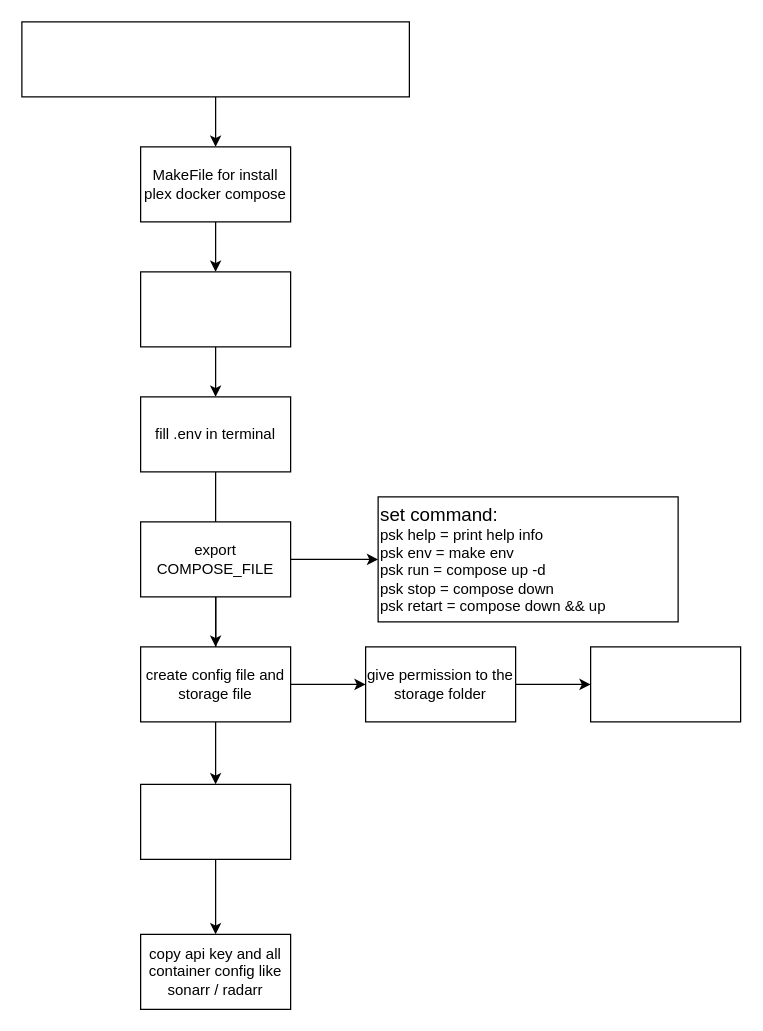
The diagram is 763 pixels wide and 1031 high, and some of its shapes have lost their labels. Each missing label, with the centre of its shape:
"install docker compose laste version and dependencies" goes at (x=215, y=309).
"PlexStarterKit" goes at (x=215, y=59).
"run docker compose" goes at (x=215, y=821).
"set folder in sonarr / radarr and overseer" goes at (x=665, y=684).
